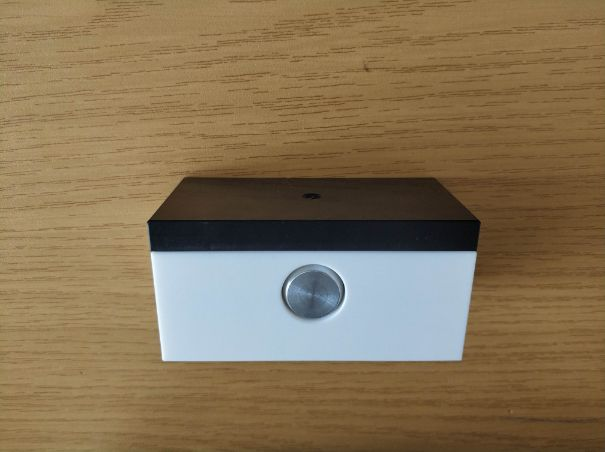black+white+silver: (143, 171, 485, 366)
